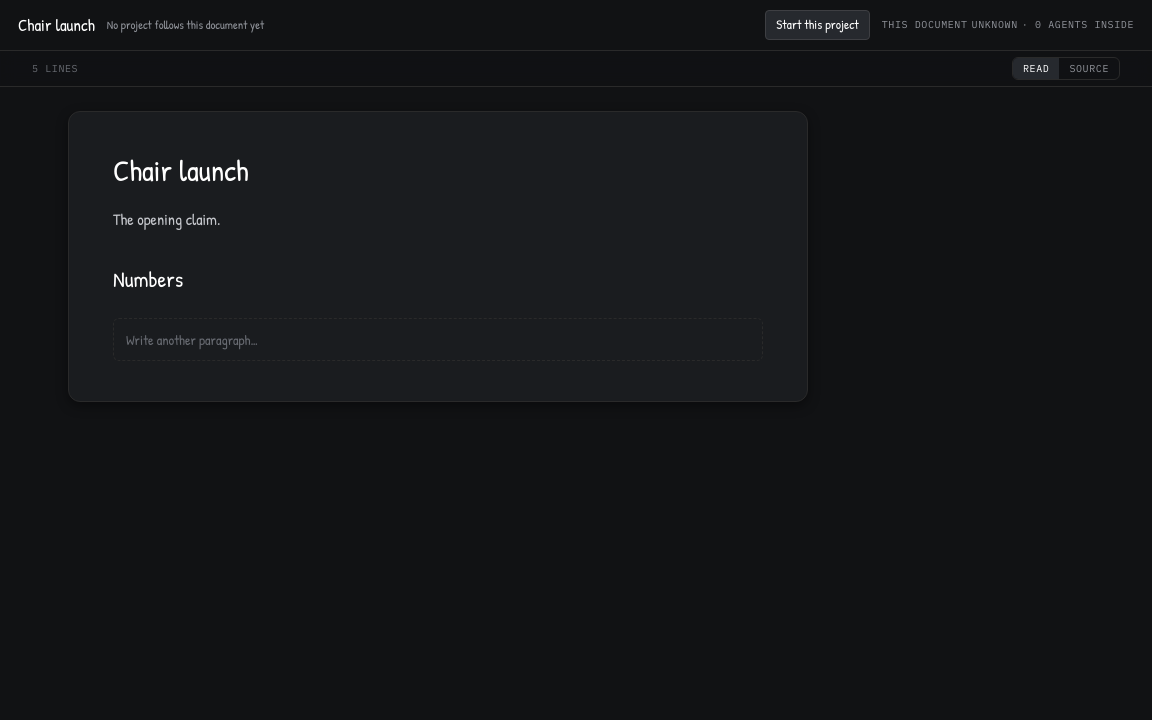
Test: an edit reaches the server › the page says the save landed
Click the element with test id "block-3" at (167, 219), box 113,208 -> 220,230
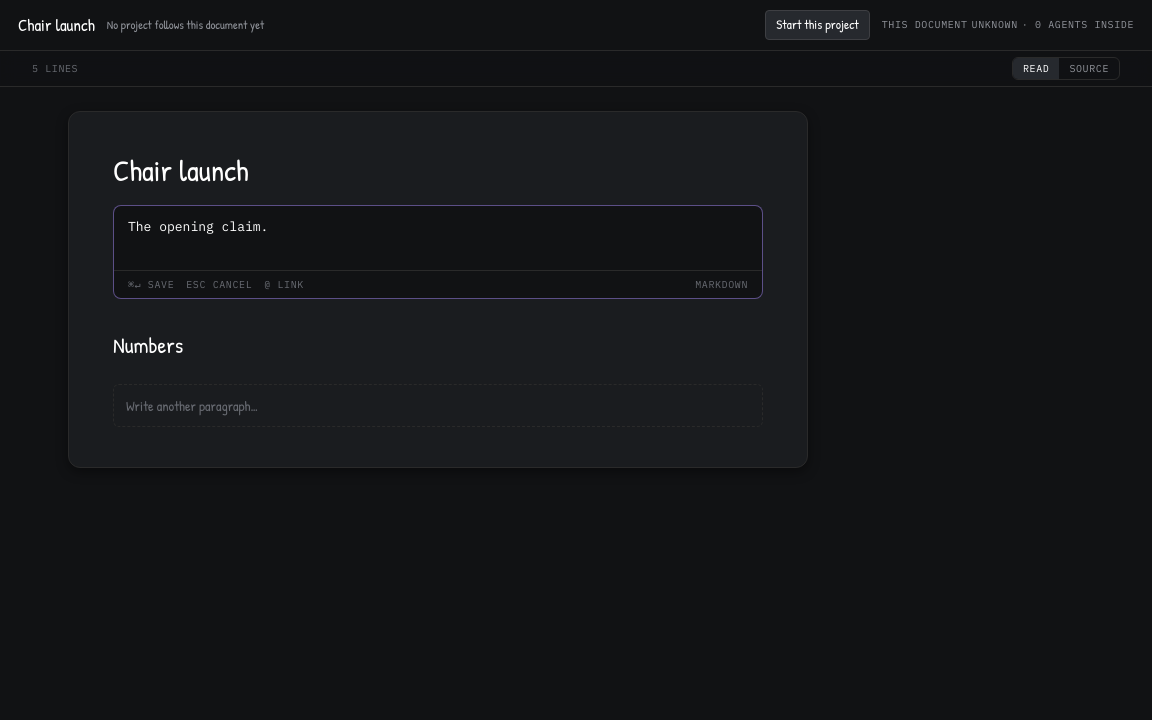
Replace the text in the text box with test id "block-editor" with "A shorter claim." at (438, 238), box 114,206 -> 762,270
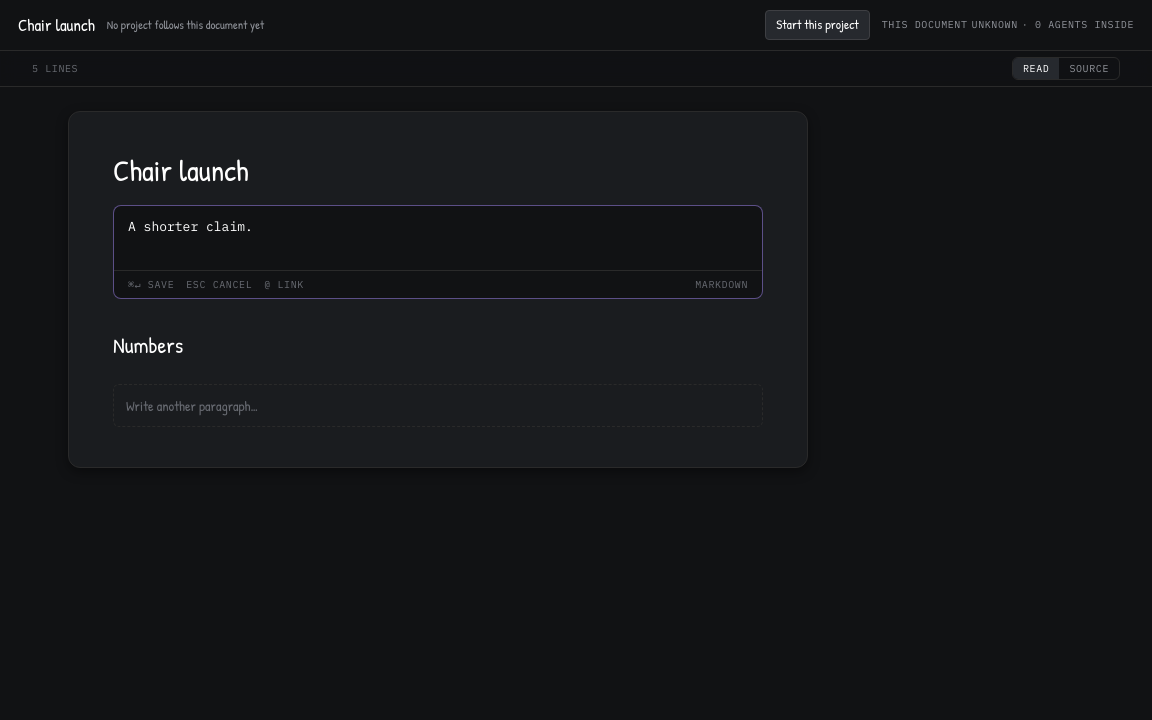
Press Enter in the text box with test id "block-editor", box 114,206 -> 762,270
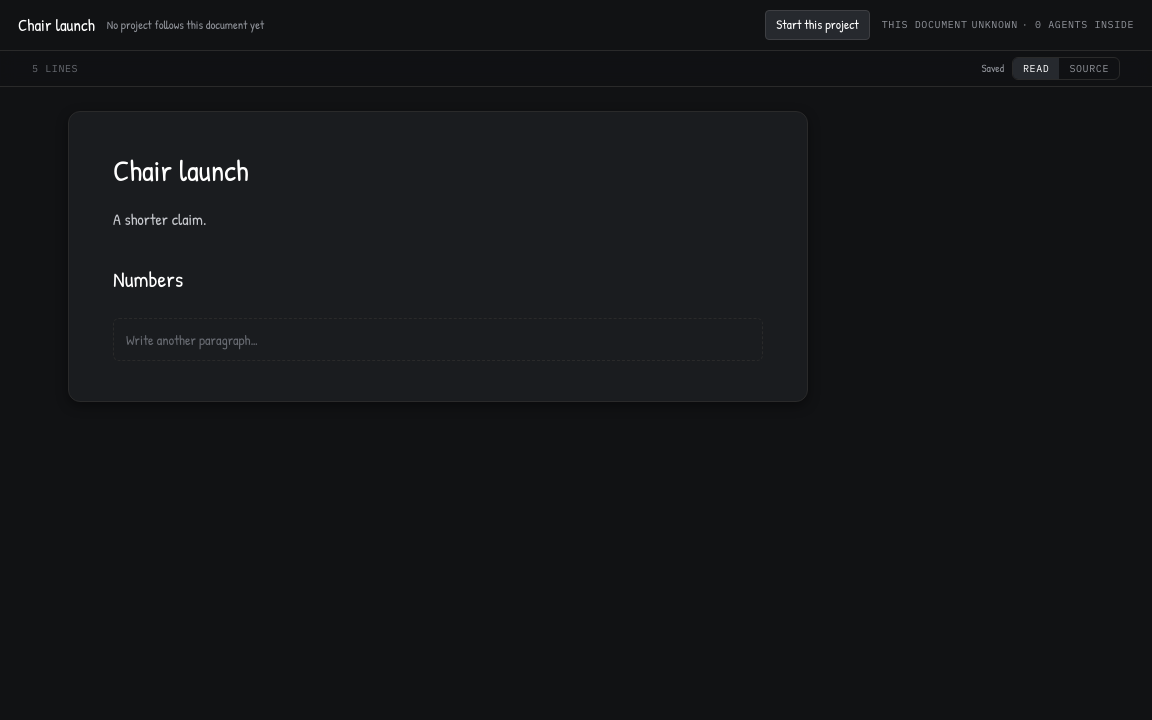
Now the text with test id "save-state" reads "Saved", box 982,61 -> 1004,75
